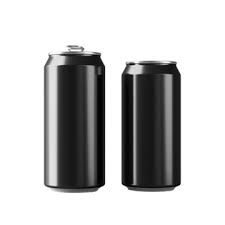can: (43, 41, 105, 192), (120, 60, 183, 192)
